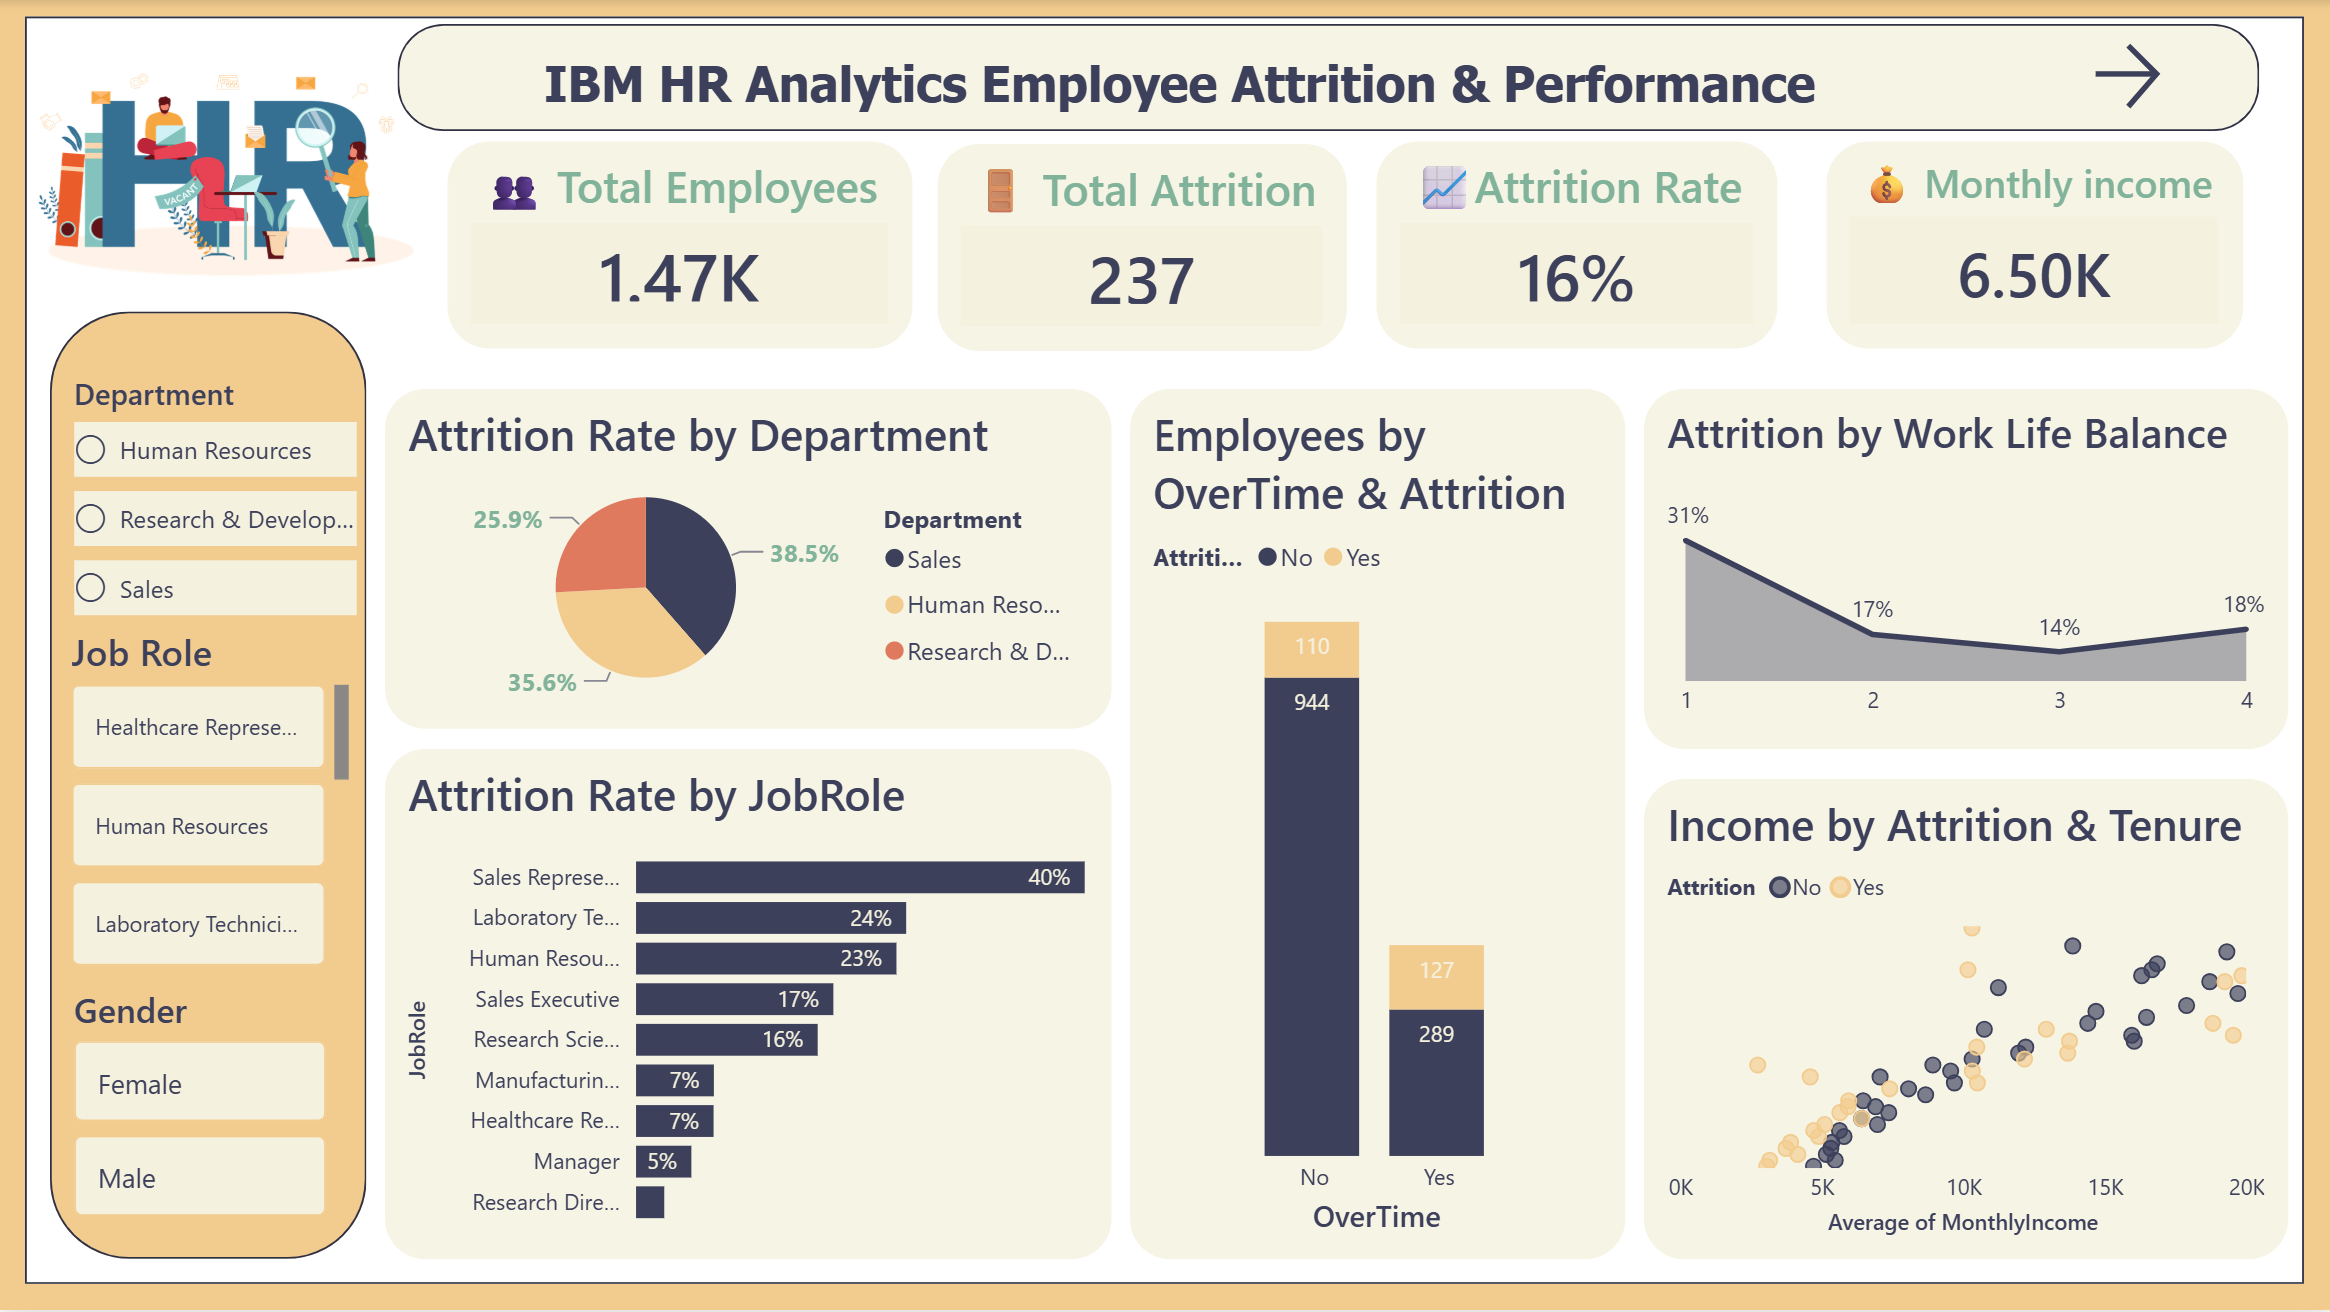

The dashboard page shown, as its layout file describes it:
{"tool":"powerbi","page":{"name":"Page 1","canvas":[1280,720],"ordinal":0},"visuals":[{"type":"shape","box":[14.3,10,1251.4,695.7],"z":0},{"type":"cardVisual","title":"👥 Total Employees","fields":{"Data":["Count(HR Data.EmployeeNumber)"]},"box":[245,78.8,255,113.8],"z":1000},{"type":"shape","box":[218.8,13.8,1022.5,58.8],"z":2000,"group":"g1"},{"type":"cardVisual","title":"🚪 Total Attrition","fields":{"Data":["HR Data.Total Attrition"]},"box":[515,80,225,113.8],"z":2000},{"type":"textbox","box":[293.6,24.4,784.7,57.1],"z":3000,"group":"g1"},{"type":"cardVisual","title":"📈Attrition Rate","fields":{"Data":["HR Data.Attrition Rate"]},"box":[756.2,78.8,220,113.8],"z":3000},{"type":"cardVisual","title":"💰 Monthly income","fields":{"Data":["HR Data.Average Monthly Income"]},"box":[1002.5,78.8,228.8,113.8],"z":4000},{"type":"pieChart","fields":{"Category":["HR Data.Department"],"Y":["HR Data.Attrition Rate"]},"box":[211.2,213.8,398.8,186.2],"z":5000},{"type":"clusteredBarChart","fields":{"Category":["HR Data.JobRole"],"Y":["HR Data.Attrition Rate"]},"box":[211.2,411.2,398.8,280],"z":6000},{"type":"group","id":"g1","title":"Group 1","box":[218.8,13.8,1022.5,67.5],"z":7000},{"type":"scatterChart","title":"Income by Attrition & Tenure","fields":{"Y":["HR Data.YearsAtCompany"],"X":["Avg(HR Data.MonthlyIncome)"],"Series":["HR Data.Attrition"]},"box":[902.5,427.5,353.8,263.8],"z":8000},{"type":"areaChart","title":"Attrition by Work Life Balance","fields":{"Category":["HR Data.WorkLifeBalance"],"Y":["HR Data.Attrition Rate"]},"box":[902.5,213.8,353.8,197.5],"z":9000},{"type":"actionButton","box":[1145,18.8,86.2,46.2],"z":10000},{"type":"columnChart","title":"Employees by OverTime & Attrition","fields":{"Category":["HR Data.OverTime"],"Series":["HR Data.Attrition"],"Y":["CountNonNull(HR Data.EmployeeNumber)"]},"box":[620,213.8,272.5,477.5],"z":11000},{"type":"shape","box":[27.5,171.2,173.8,520],"z":12000},{"type":"listSlicer","fields":{"Values":["HR Data.Department"]},"box":[36.2,206.2,165,148.8],"z":13000},{"type":"advancedSlicerVisual","title":"Job Role","fields":{"Values":["HR Data.JobRole"]},"box":[33.8,345,162.5,191.2],"z":14000},{"type":"advancedSlicerVisual","fields":{"Values":["HR Data.Gender"]},"box":[36.2,542.5,148.8,132.5],"z":15000},{"type":"image","box":[13.8,0,221.2,192.5],"z":16000}]}

Visuals, with their boxes in screenshot pixels (x1, y1, x2, y2), scaled from the page's 1280x720 canvas onto the 2330x1312 screenshot:
shape: locate(26, 18, 2304, 1286)
"👥 Total Employees" cardVisual: locate(446, 144, 910, 351)
shape: locate(398, 25, 2260, 132)
"🚪 Total Attrition" cardVisual: locate(937, 146, 1347, 353)
textbox: locate(534, 44, 1963, 149)
"📈Attrition Rate" cardVisual: locate(1377, 144, 1777, 351)
"💰 Monthly income" cardVisual: locate(1825, 144, 2241, 351)
pieChart - HR Data.Department x HR Data.Attrition Rate: locate(384, 390, 1110, 729)
clusteredBarChart - HR Data.JobRole x HR Data.Attrition Rate: locate(384, 749, 1110, 1260)
"Group 1" group: locate(398, 25, 2260, 148)
"Income by Attrition & Tenure" scatterChart: locate(1643, 779, 2287, 1260)
"Attrition by Work Life Balance" areaChart: locate(1643, 390, 2287, 749)
actionButton: locate(2084, 34, 2241, 118)
"Employees by OverTime & Attrition" columnChart: locate(1129, 390, 1625, 1260)
shape: locate(50, 312, 366, 1260)
listSlicer - HR Data.Department: locate(66, 376, 366, 647)
"Job Role" advancedSlicerVisual: locate(62, 629, 357, 977)
advancedSlicerVisual - HR Data.Gender: locate(66, 989, 337, 1230)
image: locate(25, 0, 428, 351)
